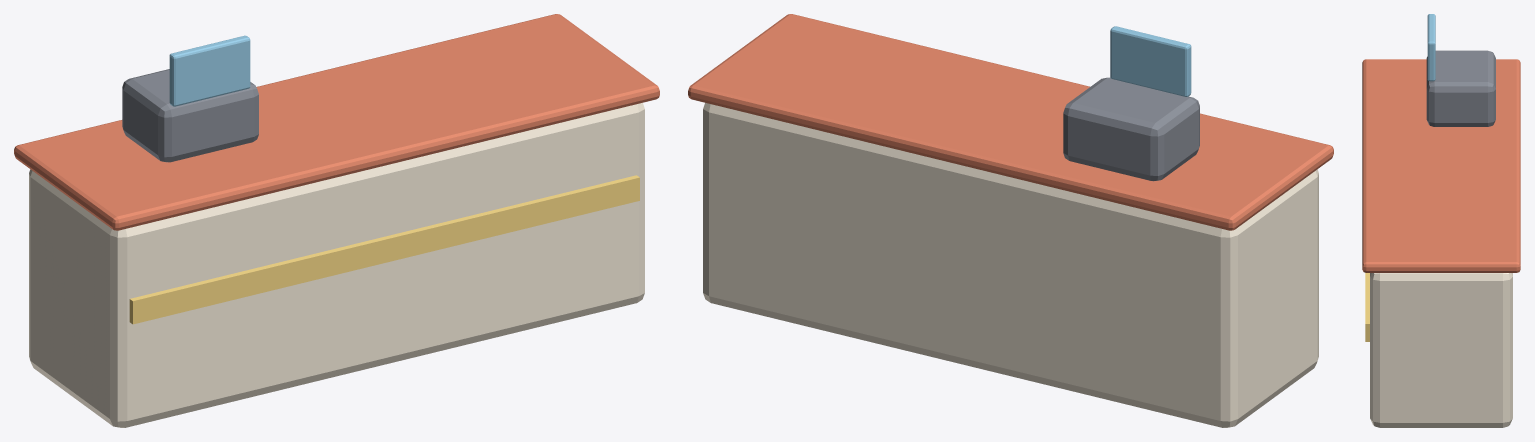
File: int_kasir.fbx
The picture shows the model from 3 angles, left to right: view 1: azimuth 30°, elevation 25°; view 2: azimuth 150°, elevation 25°; view 3: azimuth 270°, elevation 25°; orthographic projection. The views are drawn at different scales.
Visible parts, largest first — view 1: int_kasir; view 2: int_kasir; view 3: int_kasir.
Boxes of the visible parts, left/top/right/bottom form: int_kasir: left=14, top=14, right=659, bottom=427; int_kasir: left=688, top=14, right=1333, bottom=427; int_kasir: left=1362, top=14, right=1520, bottom=427.
Bounding box in the file's own units: 246 × 141 × 80.
1 material, 1 textured.
